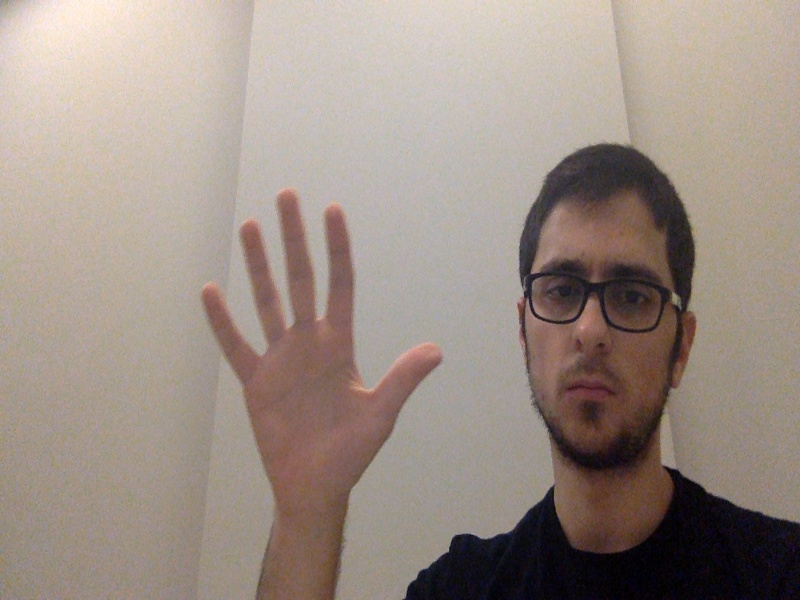5-hand: (198, 187, 447, 524)
